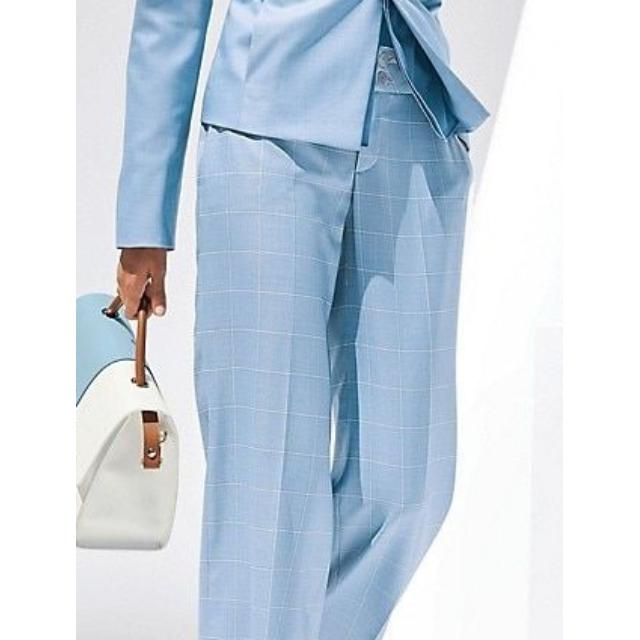silk: (166, 0, 490, 640)
